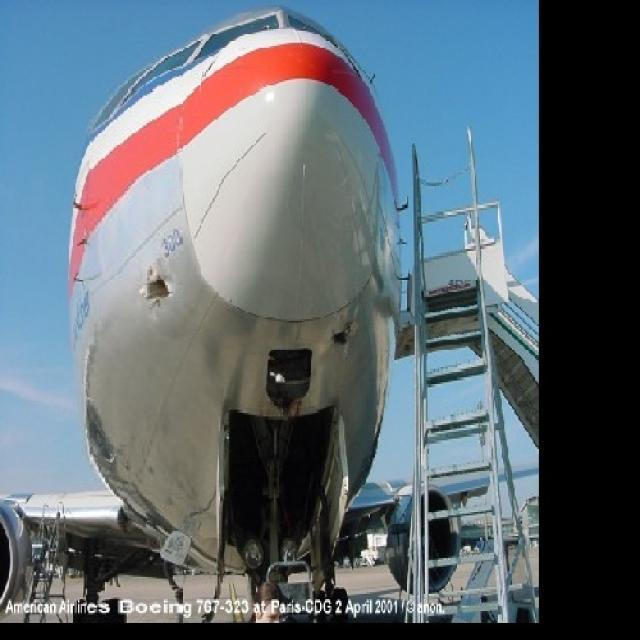dent: (141, 263, 172, 309), (325, 321, 361, 355)
